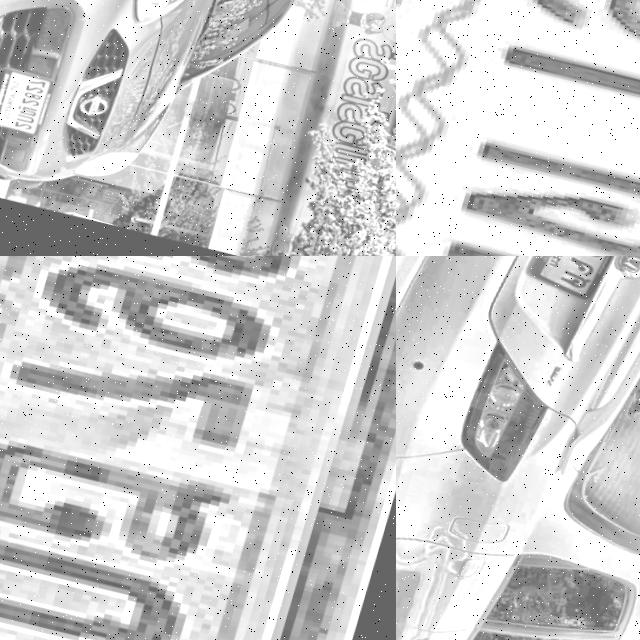license-plate: (0, 256, 396, 640), (396, 0, 640, 256), (520, 256, 640, 309), (0, 65, 62, 139)
